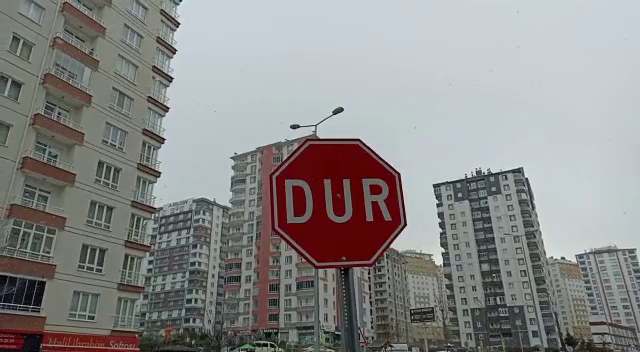stop: (265, 135, 411, 273)
